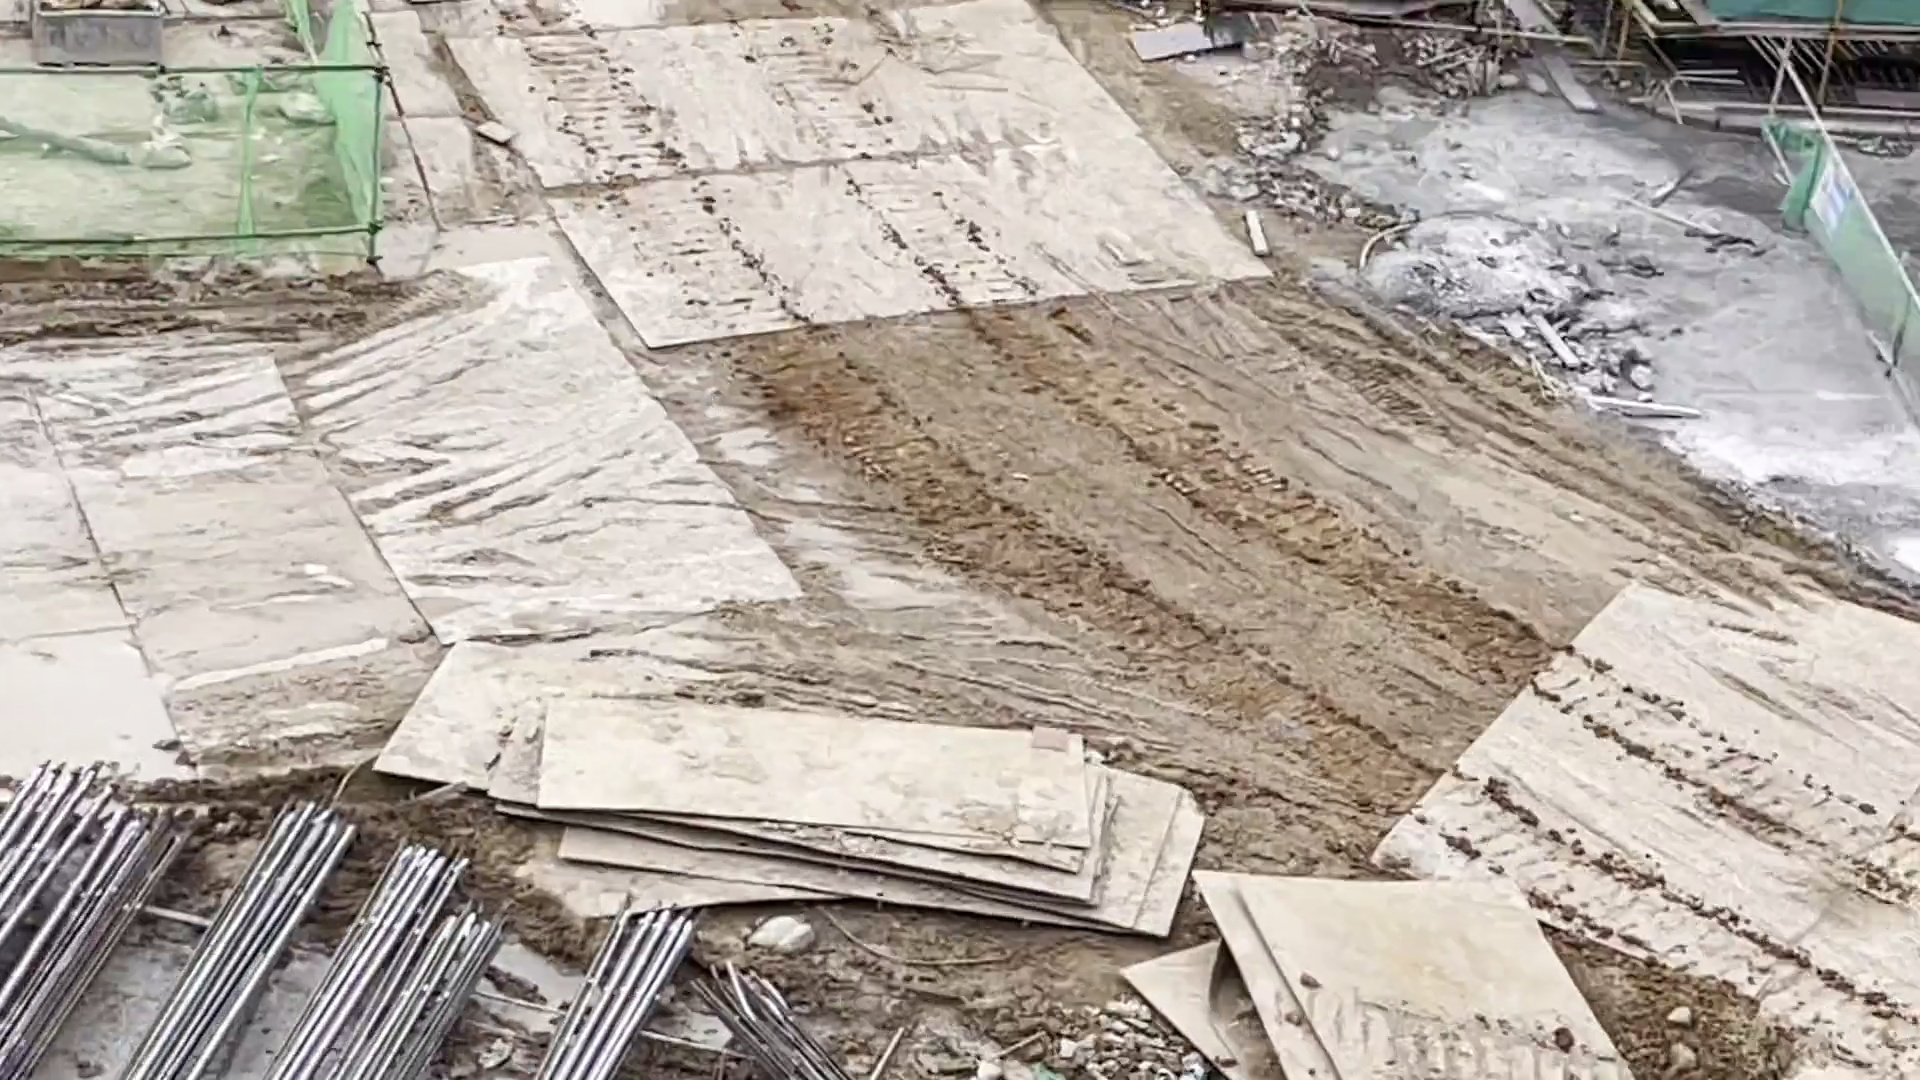hopper: (28, 1, 174, 69)
